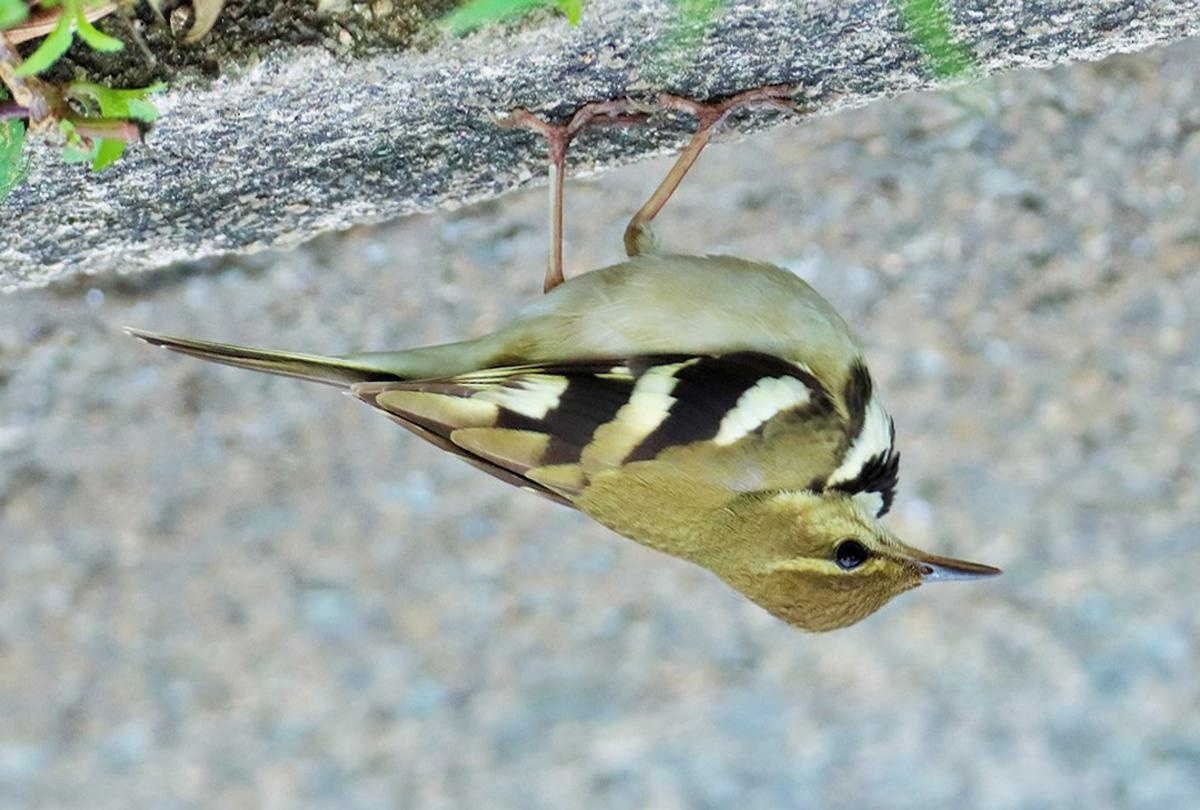wagtail: (340, 141, 1000, 653)
